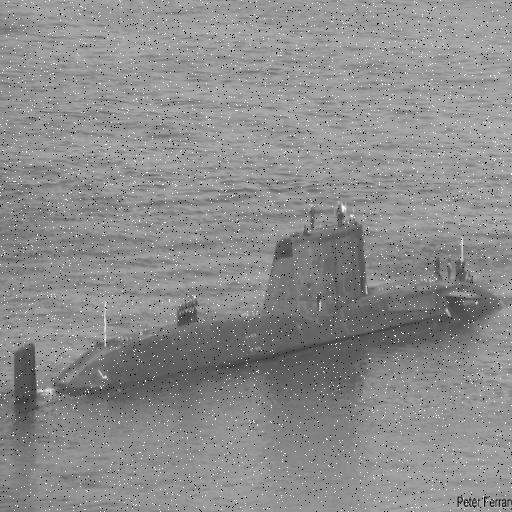submarine: (13, 211, 502, 411)
